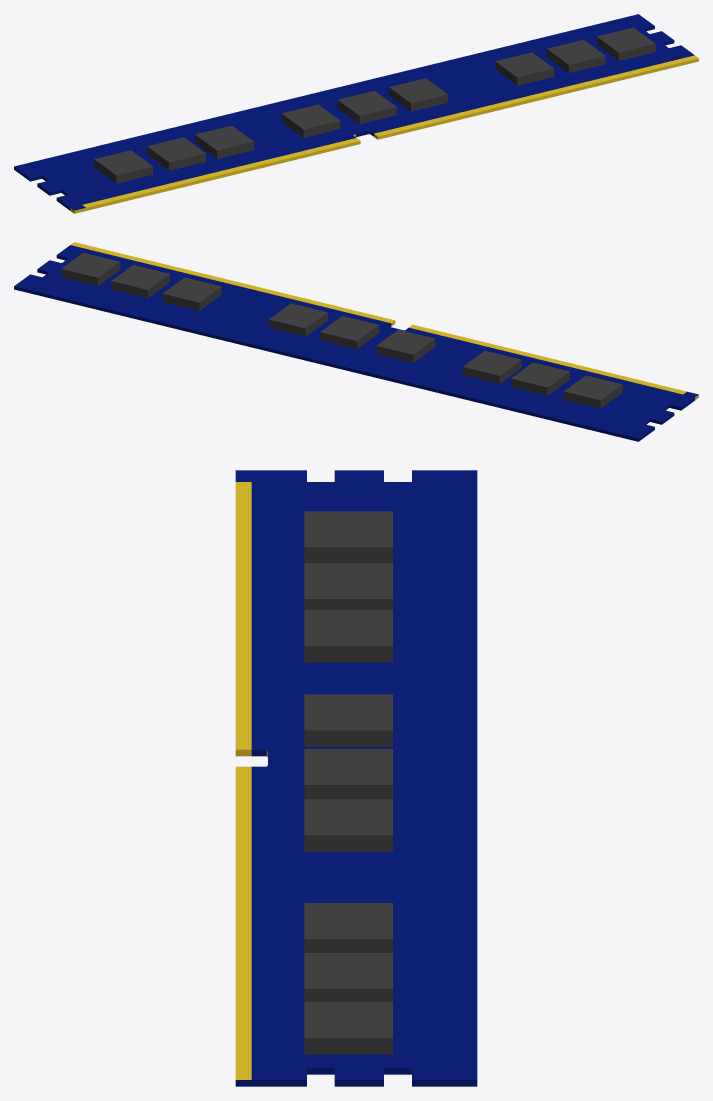
Rendered from RAM_2.fbx.
3 views of the same model, one above another, from view 1: azimuth 30°, elevation 25°; view 2: azimuth 150°, elevation 25°; view 3: azimuth 270°, elevation 25° (orthographic). The views are drawn at different scales.
Parts seen in each view (by area): view 1: Plane, Cube.002, Cube.007, Cube.006, Cube.003, Cube.004, Cube.001, Cube.009, Cube.008, Cube.005; view 2: Plane, Cube.001, Cube.006, Cube.003, Cube.002, Cube.008, Cube.007, Cube.009, Cube.005, Cube.004; view 3: Plane, Cube.008, Cube.007, Cube.005, Cube.003, Cube.001, Cube.006, Cube.002, Cube.004, Cube.009.
Part boxes in pixels (x1=…): Plane: x1=14, y1=14, x2=698, y2=213; Cube.002: x1=495, y1=52, x2=554, y2=85; Cube.007: x1=281, y1=104, x2=340, y2=137; Cube.006: x1=337, y1=91, x2=396, y2=123; Cube.003: x1=596, y1=27, x2=655, y2=60; Cube.004: x1=546, y1=40, x2=605, y2=72; Cube.001: x1=94, y1=150, x2=152, y2=183; Cube.009: x1=147, y1=137, x2=205, y2=170; Cube.008: x1=195, y1=125, x2=253, y2=158; Cube.005: x1=389, y1=78, x2=447, y2=111; Plane: x1=14, y1=242, x2=698, y2=441; Cube.001: x1=563, y1=375, x2=622, y2=408; Cube.006: x1=320, y1=316, x2=379, y2=349; Cube.003: x1=61, y1=252, x2=120, y2=285; Cube.002: x1=162, y1=277, x2=221, y2=310; Cube.008: x1=462, y1=350, x2=521, y2=383; Cube.007: x1=376, y1=329, x2=435, y2=362; Cube.009: x1=511, y1=362, x2=569, y2=395; Cube.005: x1=269, y1=303, x2=327, y2=336; Cube.004: x1=111, y1=265, x2=169, y2=298; Plane: x1=235, y1=470, x2=477, y2=1086; Cube.008: x1=304, y1=610, x2=392, y2=662; Cube.007: x1=304, y1=694, x2=392, y2=746; Cube.005: x1=304, y1=799, x2=392, y2=851; Cube.003: x1=304, y1=1002, x2=392, y2=1054; Cube.001: x1=304, y1=511, x2=392, y2=562; Cube.006: x1=304, y1=749, x2=392, y2=799; Cube.002: x1=304, y1=903, x2=392, y2=952; Cube.004: x1=304, y1=953, x2=392, y2=1001; Cube.009: x1=304, y1=563, x2=392, y2=609.
Size of the model in its own units: 556 by 9.84 by 93.17.
